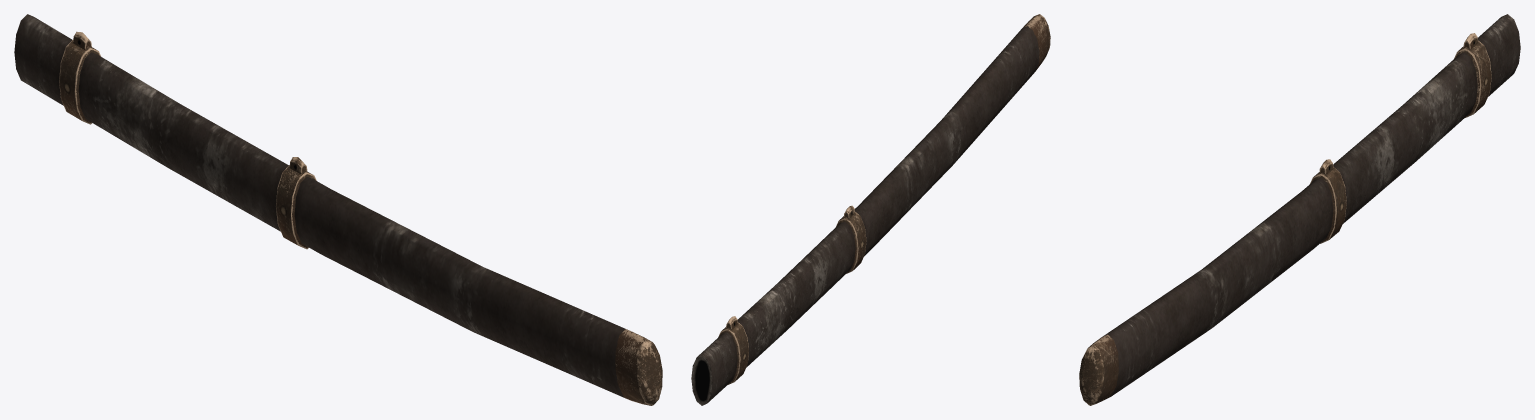
File: weapon_sword_stealth_test.fbx
3 renders of one model, left to right at view 1: azimuth 30°, elevation 25°; view 2: azimuth 150°, elevation 25°; view 3: azimuth 330°, elevation 25°, orthographic. The views are drawn at different scales.
Parts seen in each view (by area): view 1: weapon_sword_stealth; view 2: weapon_sword_stealth; view 3: weapon_sword_stealth.
Boxes of the visible parts, x1,y1,x2,y2 form: weapon_sword_stealth: [14, 14, 662, 405]; weapon_sword_stealth: [691, 14, 1050, 405]; weapon_sword_stealth: [1079, 14, 1520, 405].
Bounding box in the file's own units: 15.37 × 16.4 × 134.
